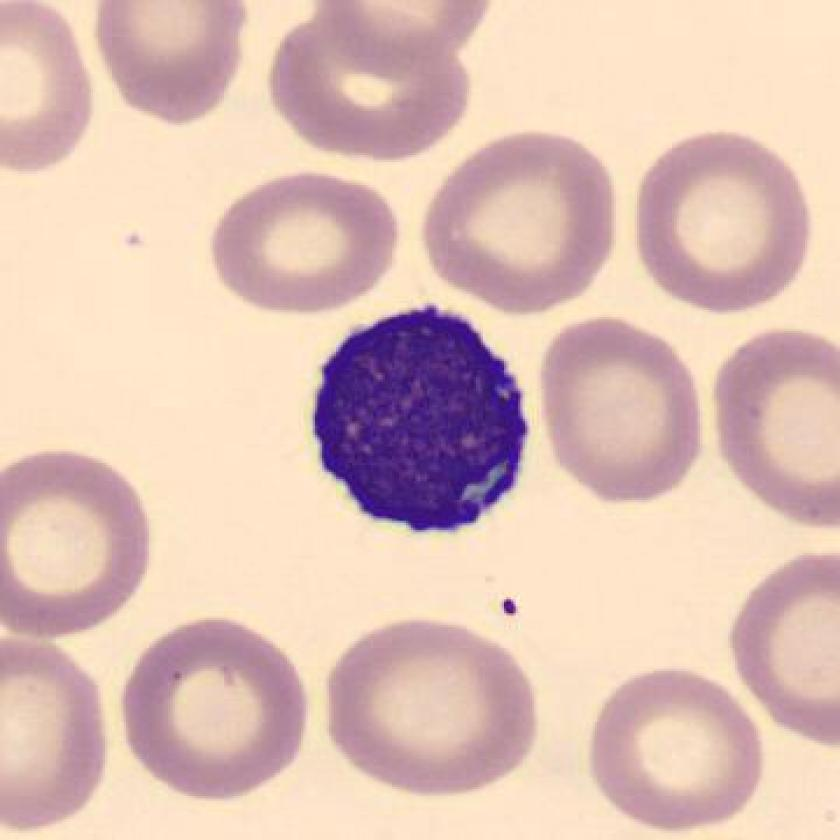lymphocyte: (300, 290, 552, 552)
